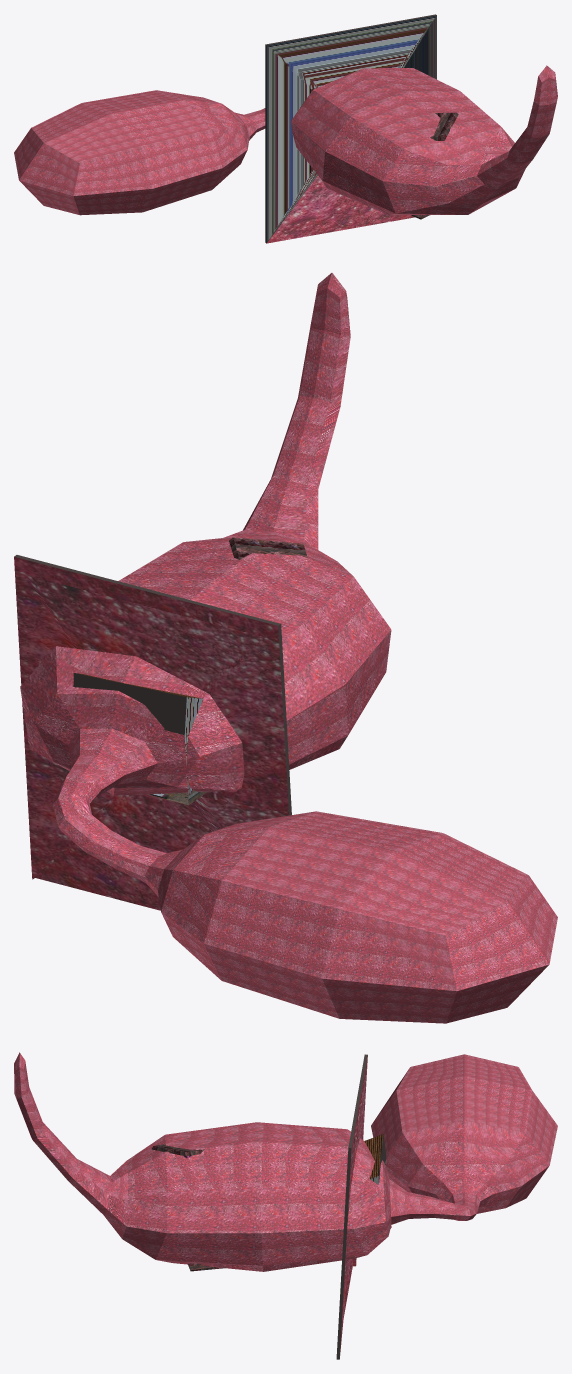
File: chickenhell.fbx
The picture shows the model from 3 angles, top to bottom: view 1: azimuth 30°, elevation 25°; view 2: azimuth 150°, elevation 25°; view 3: azimuth 270°, elevation 25°; orthographic projection. The views are drawn at different scales.
Visible parts, largest first — view 1: Cube, Cube.008, Cube.025; view 2: Cube, Cube.008, Cube.025; view 3: Cube, Cube.008.
Part boxes in pixels (<box>): Cube: <box>14,65,557,215</box>; Cube.008: <box>265,14,436,243</box>; Cube.025: <box>430,112,458,140</box>; Cube: <box>20,273,557,1023</box>; Cube.008: <box>14,555,291,910</box>; Cube.025: <box>229,537,307,559</box>; Cube: <box>14,1052,557,1271</box>; Cube.008: <box>336,1054,386,1359</box>.
Size of the model in its own units: 2568 by 1717 by 2920.
